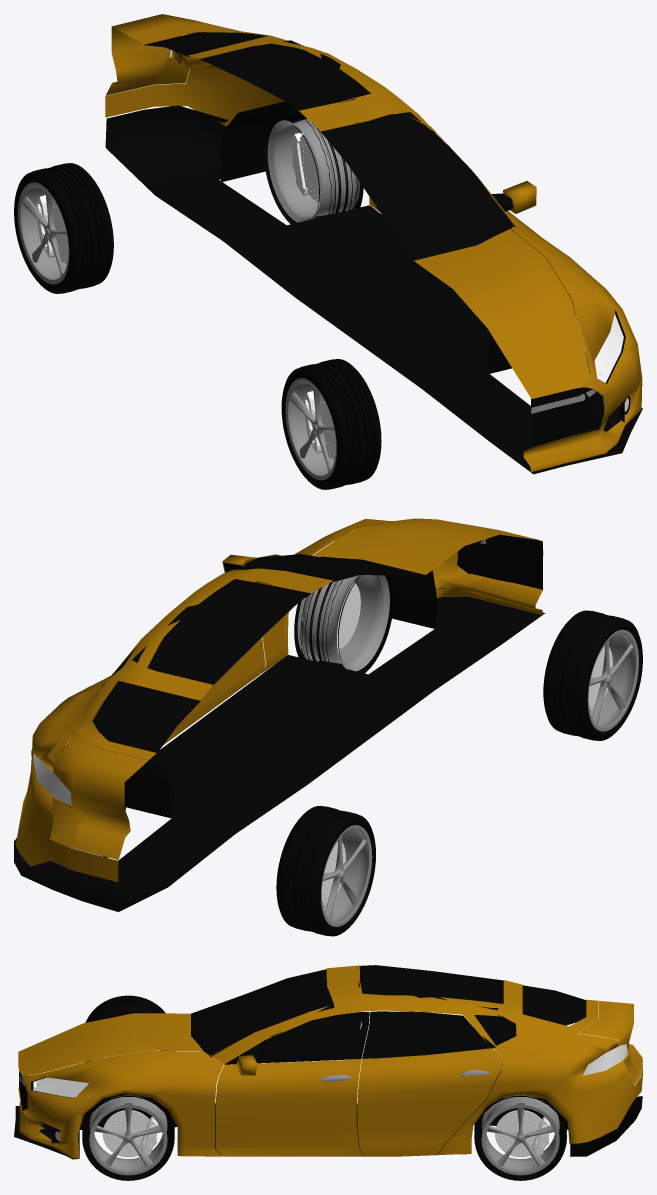
The model's file is tesla.glb.
The picture shows the model from 3 angles, top to bottom: view 1: azimuth 30°, elevation 25°; view 2: azimuth 150°, elevation 25°; view 3: azimuth 270°, elevation 25°; orthographic projection. The views are drawn at different scales.
Parts seen in each view (by area): view 1: OTHER DECOR, mycar - body, GLASSES, mycar - wheel . Ft . R, mycar - wheel . Bk . R, mycar - wheel.Bk . L, mycar - wheelbrake . Bk . L, mycar -wheelbrake . Ft . R, mycar - wheelbrake . Bk . R; view 2: OTHER DECOR, mycar - body, GLASSES, mycar - wheel . Bk . R, mycar - wheel . Ft . R, mycar - wheel . Ft . L, mycar - wheelbrake . Ft . L, mycar -wheelbrake . Ft . R, mycar - wheelbrake . Bk . R; view 3: mycar - body, GLASSES, mycar - wheel . Ft . L, mycar - wheel.Bk . L, OTHER DECOR, mycar - wheelbrake . Ft . L, mycar - wheelbrake . Bk . L, mycar - wheel . Ft . R, DECOR 2.
Part boxes in pixels (left/top/right/bottom): OTHER DECOR: left=105, top=105, right=642, bottom=474; mycar - body: left=105, top=14, right=642, bottom=471; GLASSES: left=144, top=31, right=623, bottom=382; mycar - wheel . Ft . R: left=281, top=359, right=381, bottom=489; mycar - wheel . Bk . R: left=14, top=163, right=113, bottom=293; mycar - wheel.Bk . L: left=263, top=107, right=363, bottom=224; mycar - wheelbrake . Bk . L: left=290, top=132, right=320, bottom=201; mycar -wheelbrake . Ft . R: left=303, top=391, right=335, bottom=459; mycar - wheelbrake . Bk . R: left=35, top=195, right=68, bottom=263; OTHER DECOR: left=14, top=534, right=544, bottom=911; mycar - body: left=15, top=518, right=543, bottom=882; GLASSES: left=33, top=526, right=424, bottom=806; mycar - wheel . Bk . R: left=276, top=806, right=375, bottom=936; mycar - wheel . Ft . R: left=543, top=610, right=642, bottom=740; mycar - wheel . Ft . L: left=294, top=556, right=393, bottom=673; mycar - wheelbrake . Ft . L: left=337, top=582, right=360, bottom=653; mycar -wheelbrake . Ft . R: left=588, top=645, right=612, bottom=716; mycar - wheelbrake . Bk . R: left=321, top=841, right=345, bottom=911; mycar - body: left=18, top=965, right=642, bottom=1159; GLASSES: left=33, top=965, right=627, bottom=1097; mycar - wheel . Ft . L: left=82, top=1093, right=174, bottom=1180; mycar - wheel.Bk . L: left=474, top=1095, right=566, bottom=1180; OTHER DECOR: left=14, top=1069, right=642, bottom=1158; mycar - wheelbrake . Ft . L: left=102, top=1110, right=158, bottom=1159; mycar - wheelbrake . Bk . L: left=495, top=1110, right=550, bottom=1159; mycar - wheel . Ft . R: left=85, top=995, right=167, bottom=1062; DECOR 2: left=39, top=1070, right=489, bottom=1143.
Size of what is drawn, in the model's own units: 5.7 by 4.01 by 13.85.
